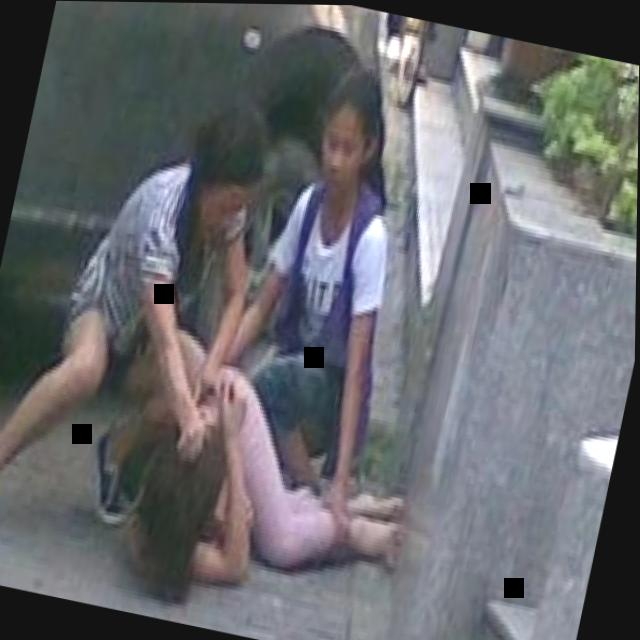Fall-Detected: (112, 338, 436, 614)
